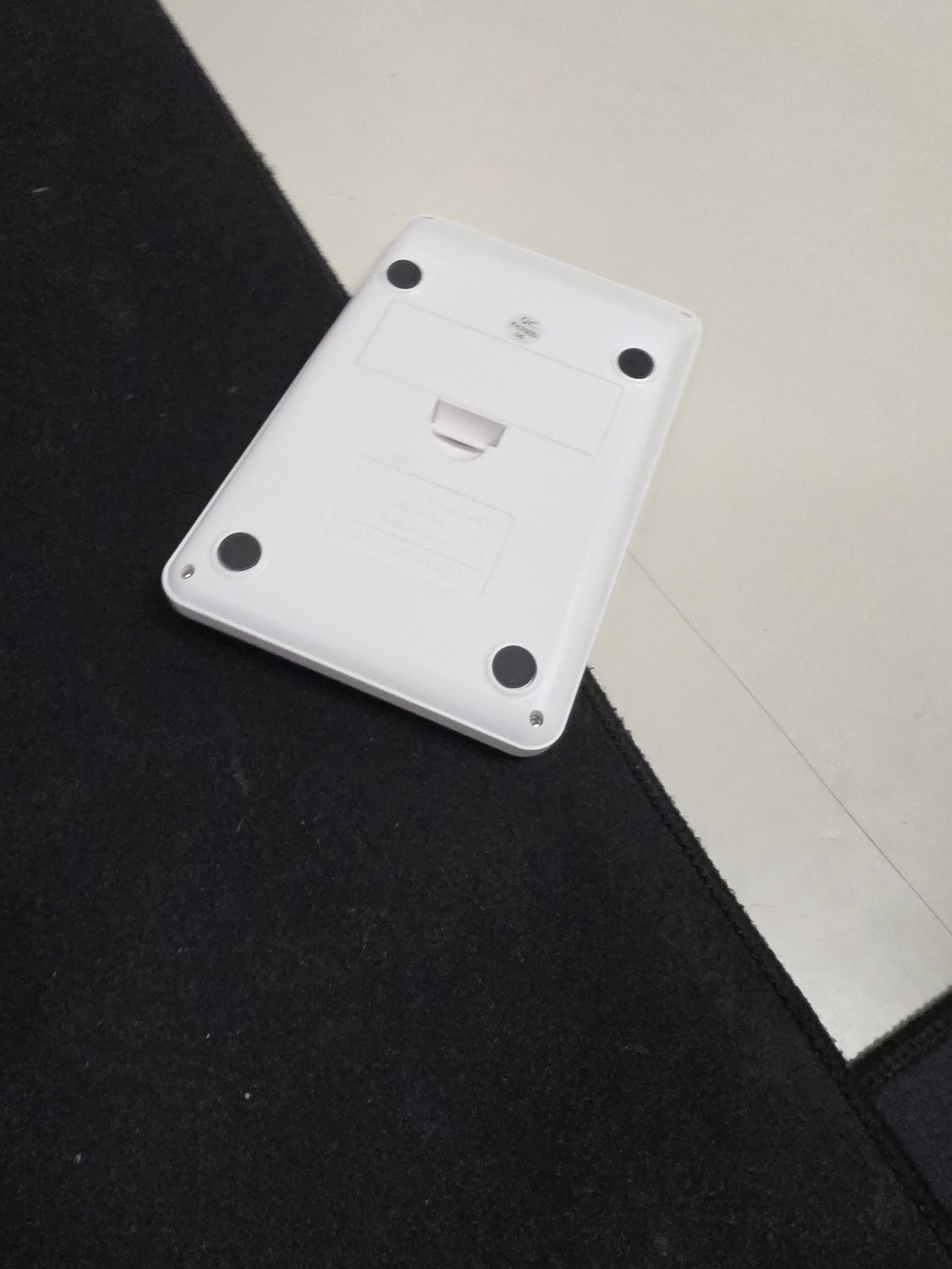calculator: (161, 214, 705, 757)
